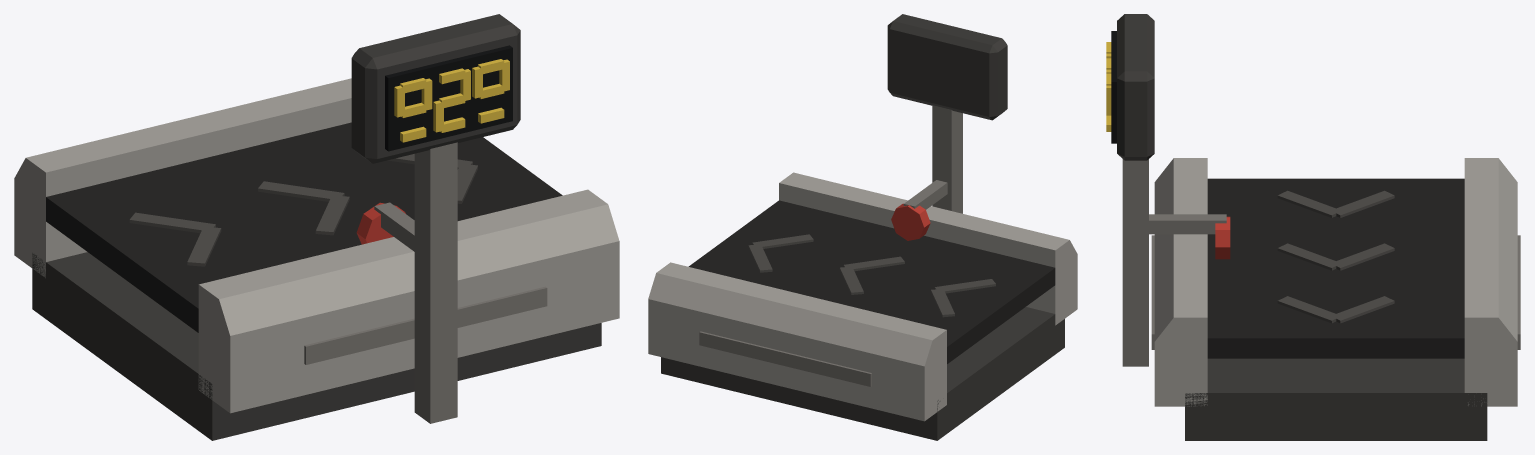
Rendered from counter.fbx.
The picture shows the model from 3 angles, left to right: view 1: azimuth 30°, elevation 25°; view 2: azimuth 150°, elevation 25°; view 3: azimuth 270°, elevation 25°; orthographic projection. The views are drawn at different scales.
Visible parts, largest first — view 1: counter; view 2: counter; view 3: counter.
Part boxes in pixels (<box>): counter: <box>14,14,619,440</box>; counter: <box>648,14,1077,440</box>; counter: <box>1106,14,1520,440</box>.
Size of the model in its own units: 3 by 2.79 by 3.29.
